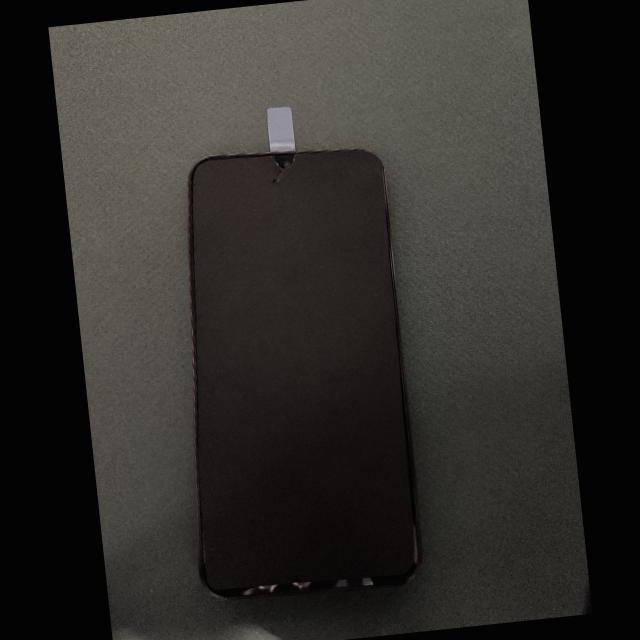lens: (283, 161, 290, 168)
phone: (188, 149, 420, 597)
sticker: (266, 107, 296, 151)
